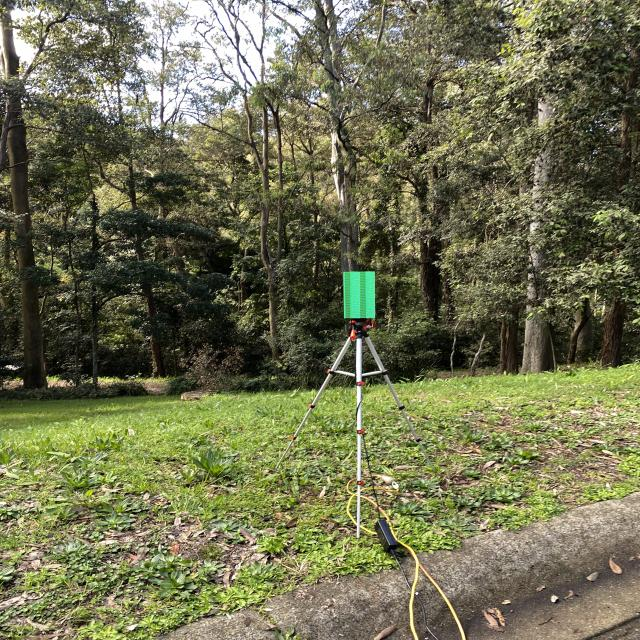matrix: (342, 270, 377, 320)
